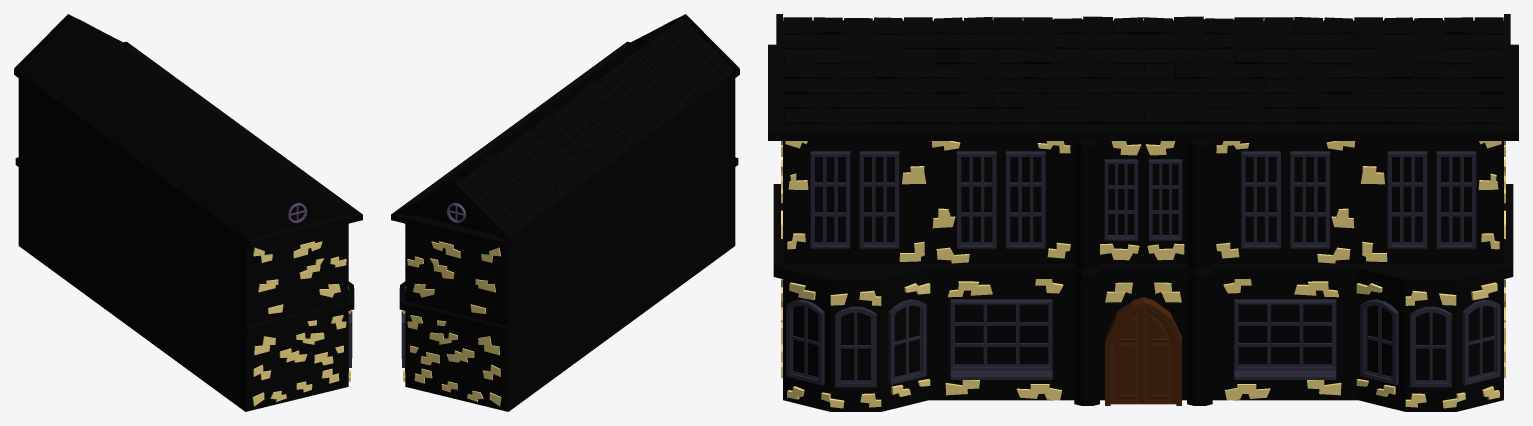
Rendered from Hauprgebäude.fbx.
The picture shows the model from 3 angles, left to right: view 1: azimuth 30°, elevation 25°; view 2: azimuth 150°, elevation 25°; view 3: azimuth 270°, elevation 25°; orthographic projection. The views are drawn at different scales.
Visible parts, largest first — view 1: Haupgebäude; view 2: Haupgebäude; view 3: Haupgebäude.
Part boxes in pixels (x1,y1,x2,y2): Haupgebäude: [14, 14, 362, 411]; Haupgebäude: [391, 14, 739, 411]; Haupgebäude: [768, 14, 1518, 411].
Bounding box in the file's own units: 1352 × 2235 × 4393.
